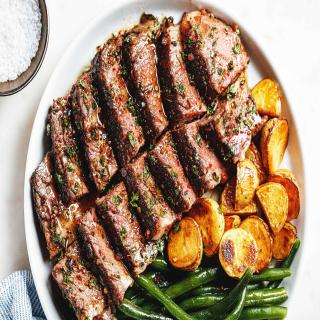carbs: (169, 220, 289, 268), (195, 187, 300, 221), (229, 154, 297, 187), (257, 113, 292, 154), (255, 78, 283, 115)
meat: (34, 80, 119, 320), (178, 9, 256, 154), (122, 22, 178, 221), (122, 221, 165, 262), (178, 155, 229, 187), (86, 34, 120, 82), (178, 186, 195, 212), (121, 261, 142, 276), (121, 275, 128, 297)
steak: (28, 2, 302, 320)
veg: (130, 276, 289, 320), (259, 263, 290, 276), (202, 256, 221, 275), (149, 258, 169, 273), (120, 296, 130, 320)
